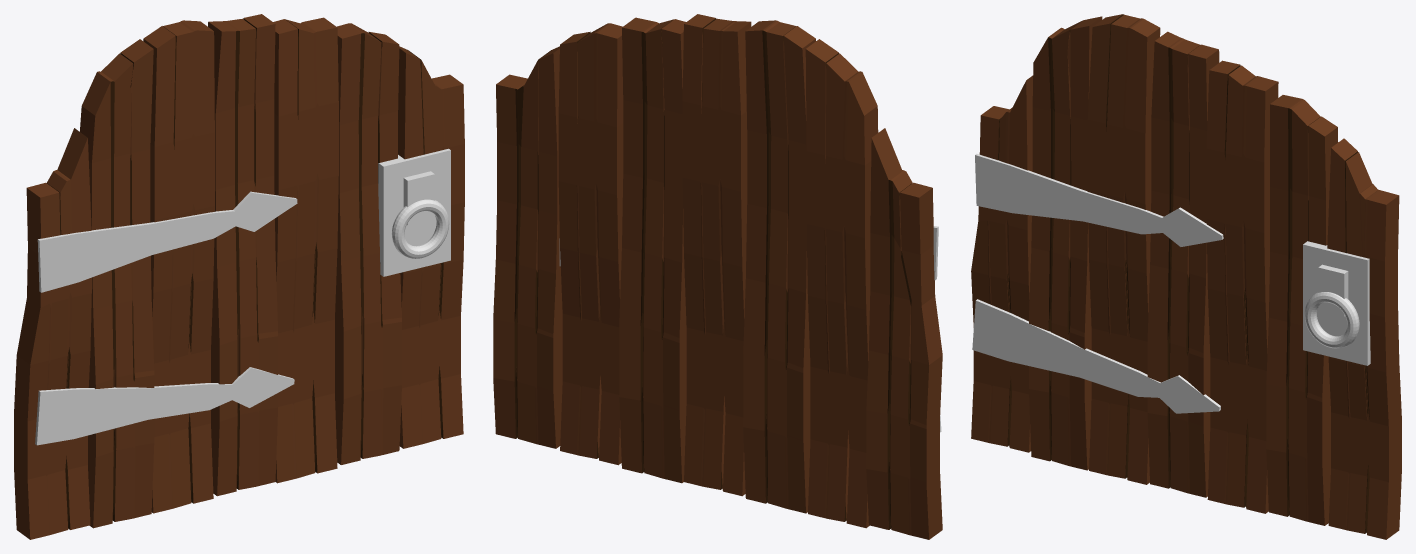
The model's file is Door.fbx.
3 views of the same model, side by side, from view 1: azimuth 30°, elevation 25°; view 2: azimuth 150°, elevation 25°; view 3: azimuth 330°, elevation 25° (orthographic). The views are drawn at different scales.
Visible parts, largest first — view 1: Cube.006, Plane, Plane.001, Cube, Torus, Cube.001; view 2: Cube.006; view 3: Cube.006, Plane, Plane.001, Cube, Torus, Cube.001.
Part boxes in pixels (x1,y1,x2,y2): Cube.006: [14, 14, 464, 539]; Plane: [37, 191, 297, 292]; Plane.001: [35, 367, 294, 445]; Cube: [378, 148, 450, 276]; Torus: [392, 199, 449, 258]; Cube.001: [403, 171, 434, 225]; Cube.006: [493, 14, 942, 539]; Cube.006: [971, 14, 1401, 539]; Plane: [975, 153, 1223, 246]; Plane.001: [972, 299, 1220, 413]; Cube: [1303, 241, 1370, 365]; Torus: [1304, 292, 1359, 348]; Cube.001: [1318, 264, 1348, 316].
Bounding box in the file's own units: 539 × 562 × 56.43.
